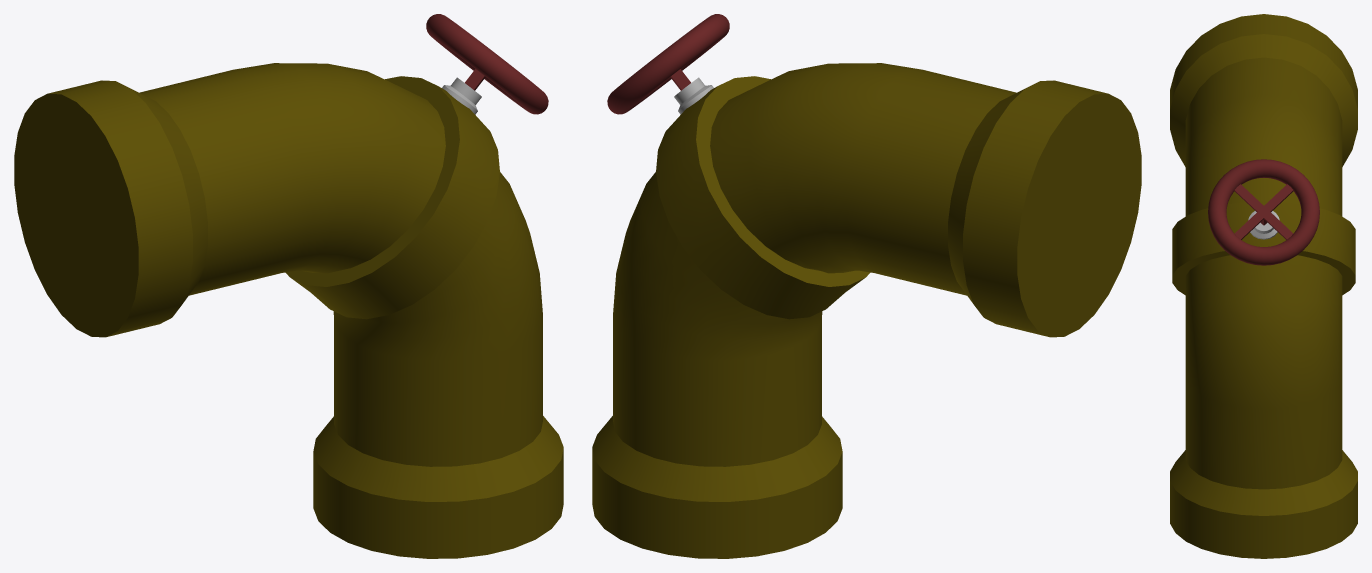
Rendered from LargePipeValve.fbx.
The picture shows the model from 3 angles, left to right: view 1: azimuth 30°, elevation 25°; view 2: azimuth 150°, elevation 25°; view 3: azimuth 270°, elevation 25°; orthographic projection. The views are drawn at different scales.
Parts seen in each view (by area): view 1: Pipe, Valve; view 2: Pipe, Valve; view 3: Pipe, Valve, ValveConnect.
Part boxes in pixels (<box>): Pipe: <box>14,63,563,558</box>; Valve: <box>426,14,548,114</box>; Pipe: <box>592,63,1141,558</box>; Valve: <box>607,14,729,114</box>; Pipe: <box>1170,14,1357,558</box>; Valve: <box>1208,159,1319,265</box>; ValveConnect: <box>1248,211,1279,239</box>.
Size of the model in its own units: 5.2 by 5.2 by 2.38.
